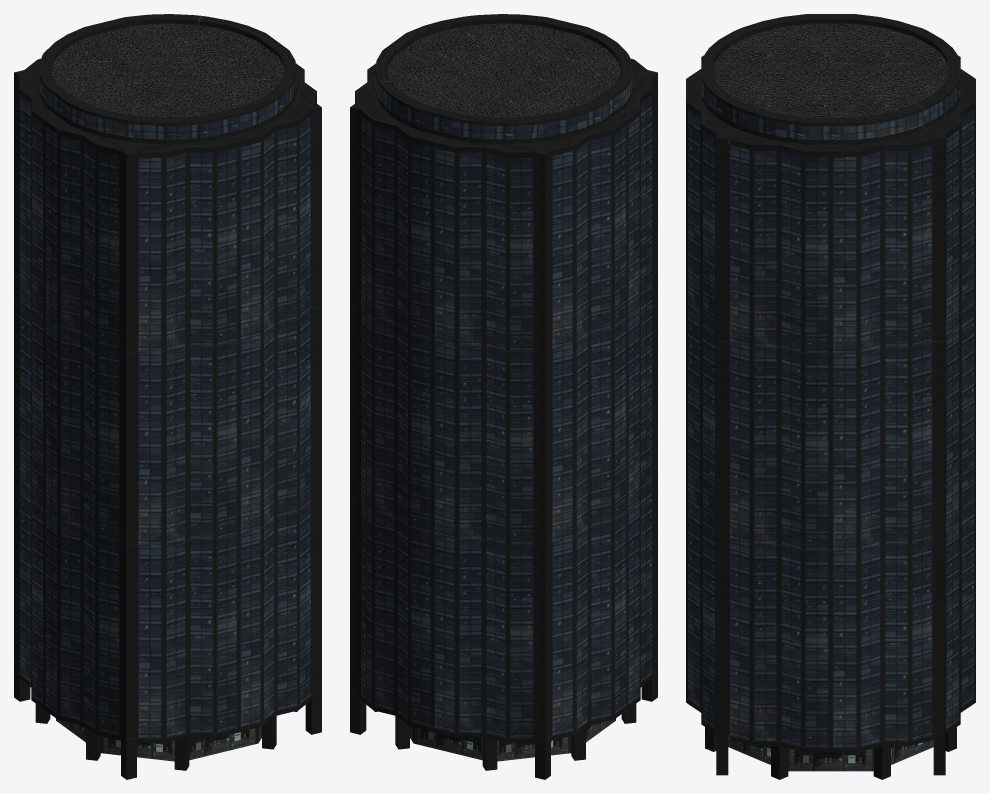
Rendered from si_building_03.fbx.
3 views of the same model, side by side, from view 1: azimuth 30°, elevation 25°; view 2: azimuth 150°, elevation 25°; view 3: azimuth 270°, elevation 25° (orthographic).
Parts seen in each view (by area): view 1: si_building_03; view 2: si_building_03; view 3: si_building_03.
Boxes of the visible parts, <box> form: si_building_03: <box>14,14,321,779</box>; si_building_03: <box>350,14,657,779</box>; si_building_03: <box>686,14,975,779</box>.
Size of the model in its own units: 96 by 241 by 96.
Materials: 1 (1 with a texture image).
